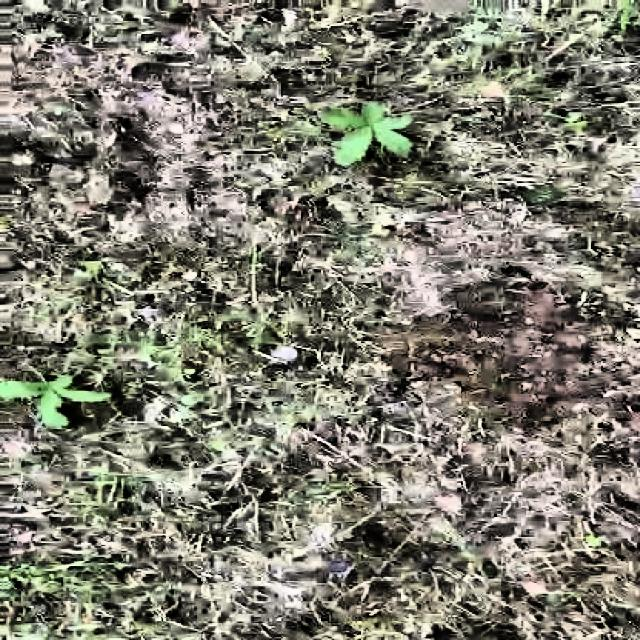Weeds: (1, 370, 116, 432), (319, 102, 413, 166)
